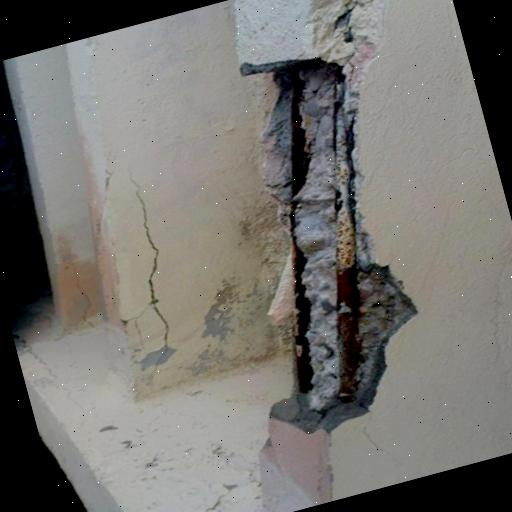spalling: (243, 0, 418, 429), (120, 174, 175, 384)
